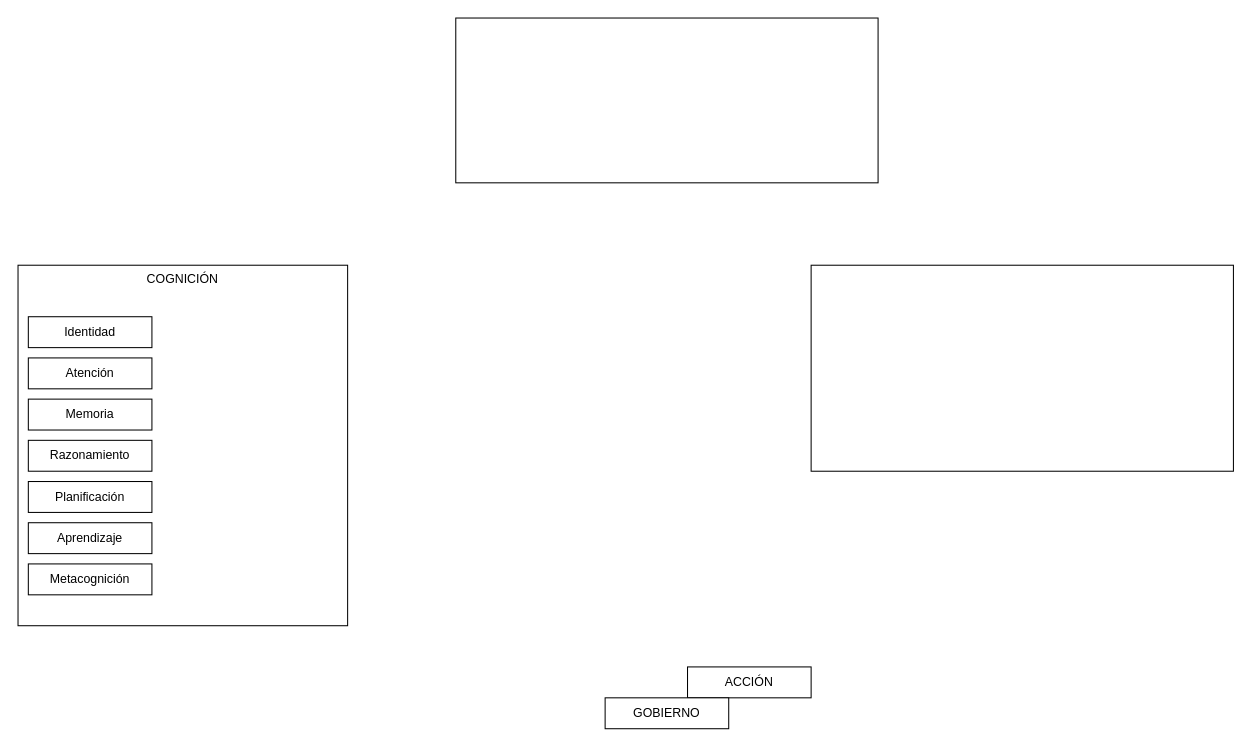
The diagram is 1251 pixels wide and 747 high, and some of its shapes have lost their labels. The shapes that lost their labels are listed below. From the top down, each one's centre as x and y in pixels, then its label:
At (x=666, y=100): "SOFIA".
At (x=1021, y=367): "ENTRADA".
